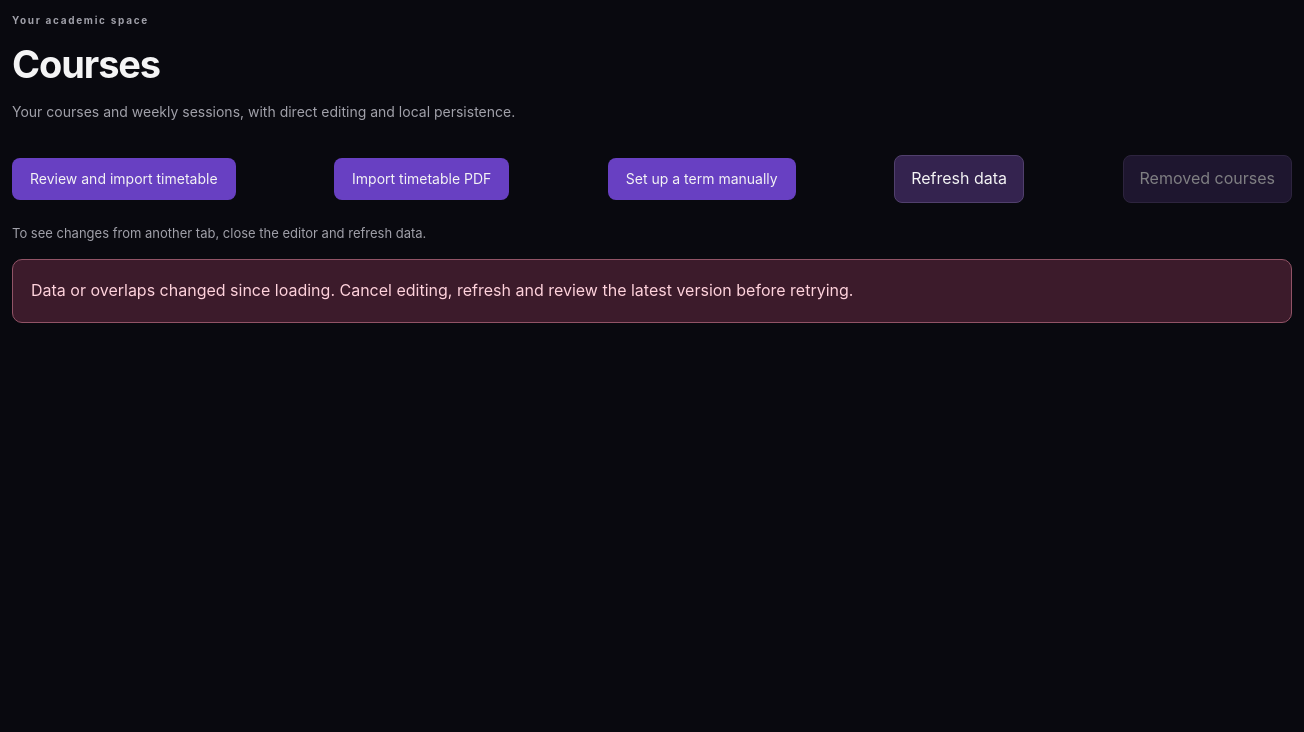
it: retains actionable recovery for a missing case-variant term link
expect the message is shown: met, box [12, 259, 1292, 323]
Click the button "Refresh data": (959, 179) [894, 155, 1024, 203]
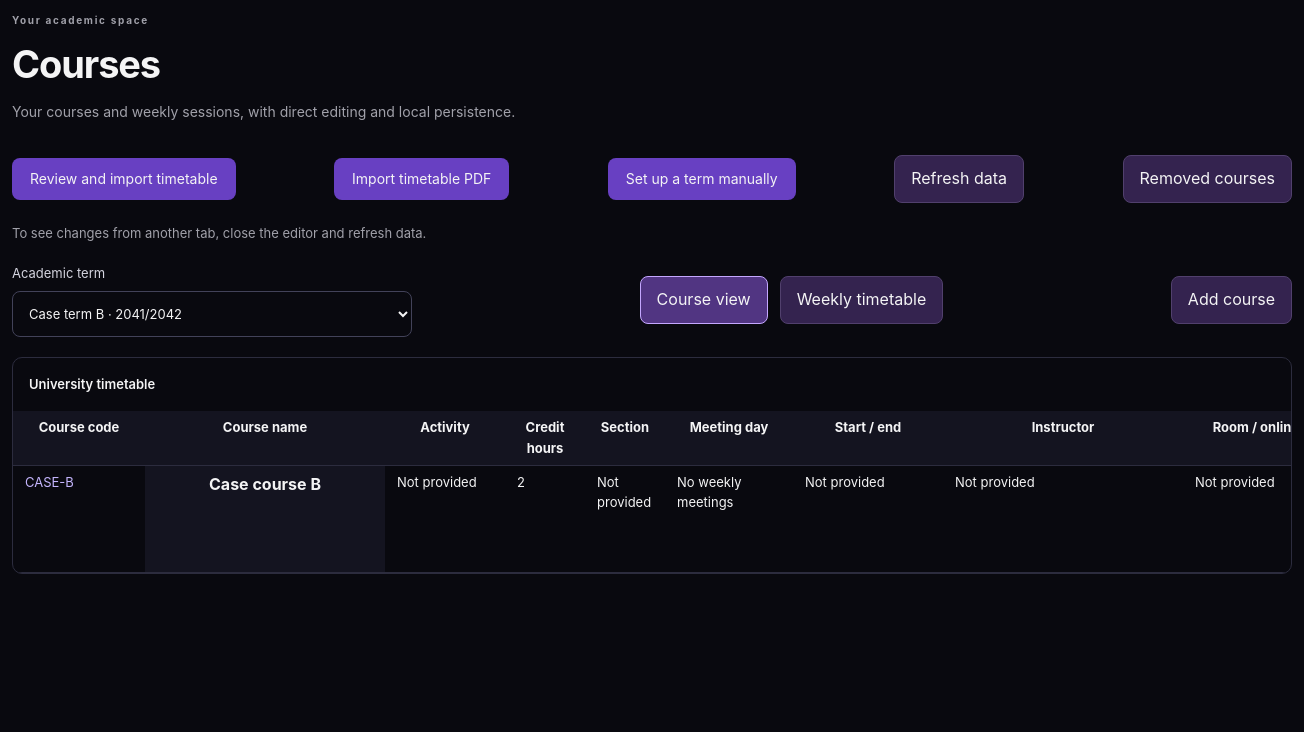
expect the dropdown labelled "Academic term" shows "Case term B · 2041/2042": met, box [12, 291, 412, 337]
expect the message is gone: met
